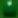green: (0, 0, 18, 18)
